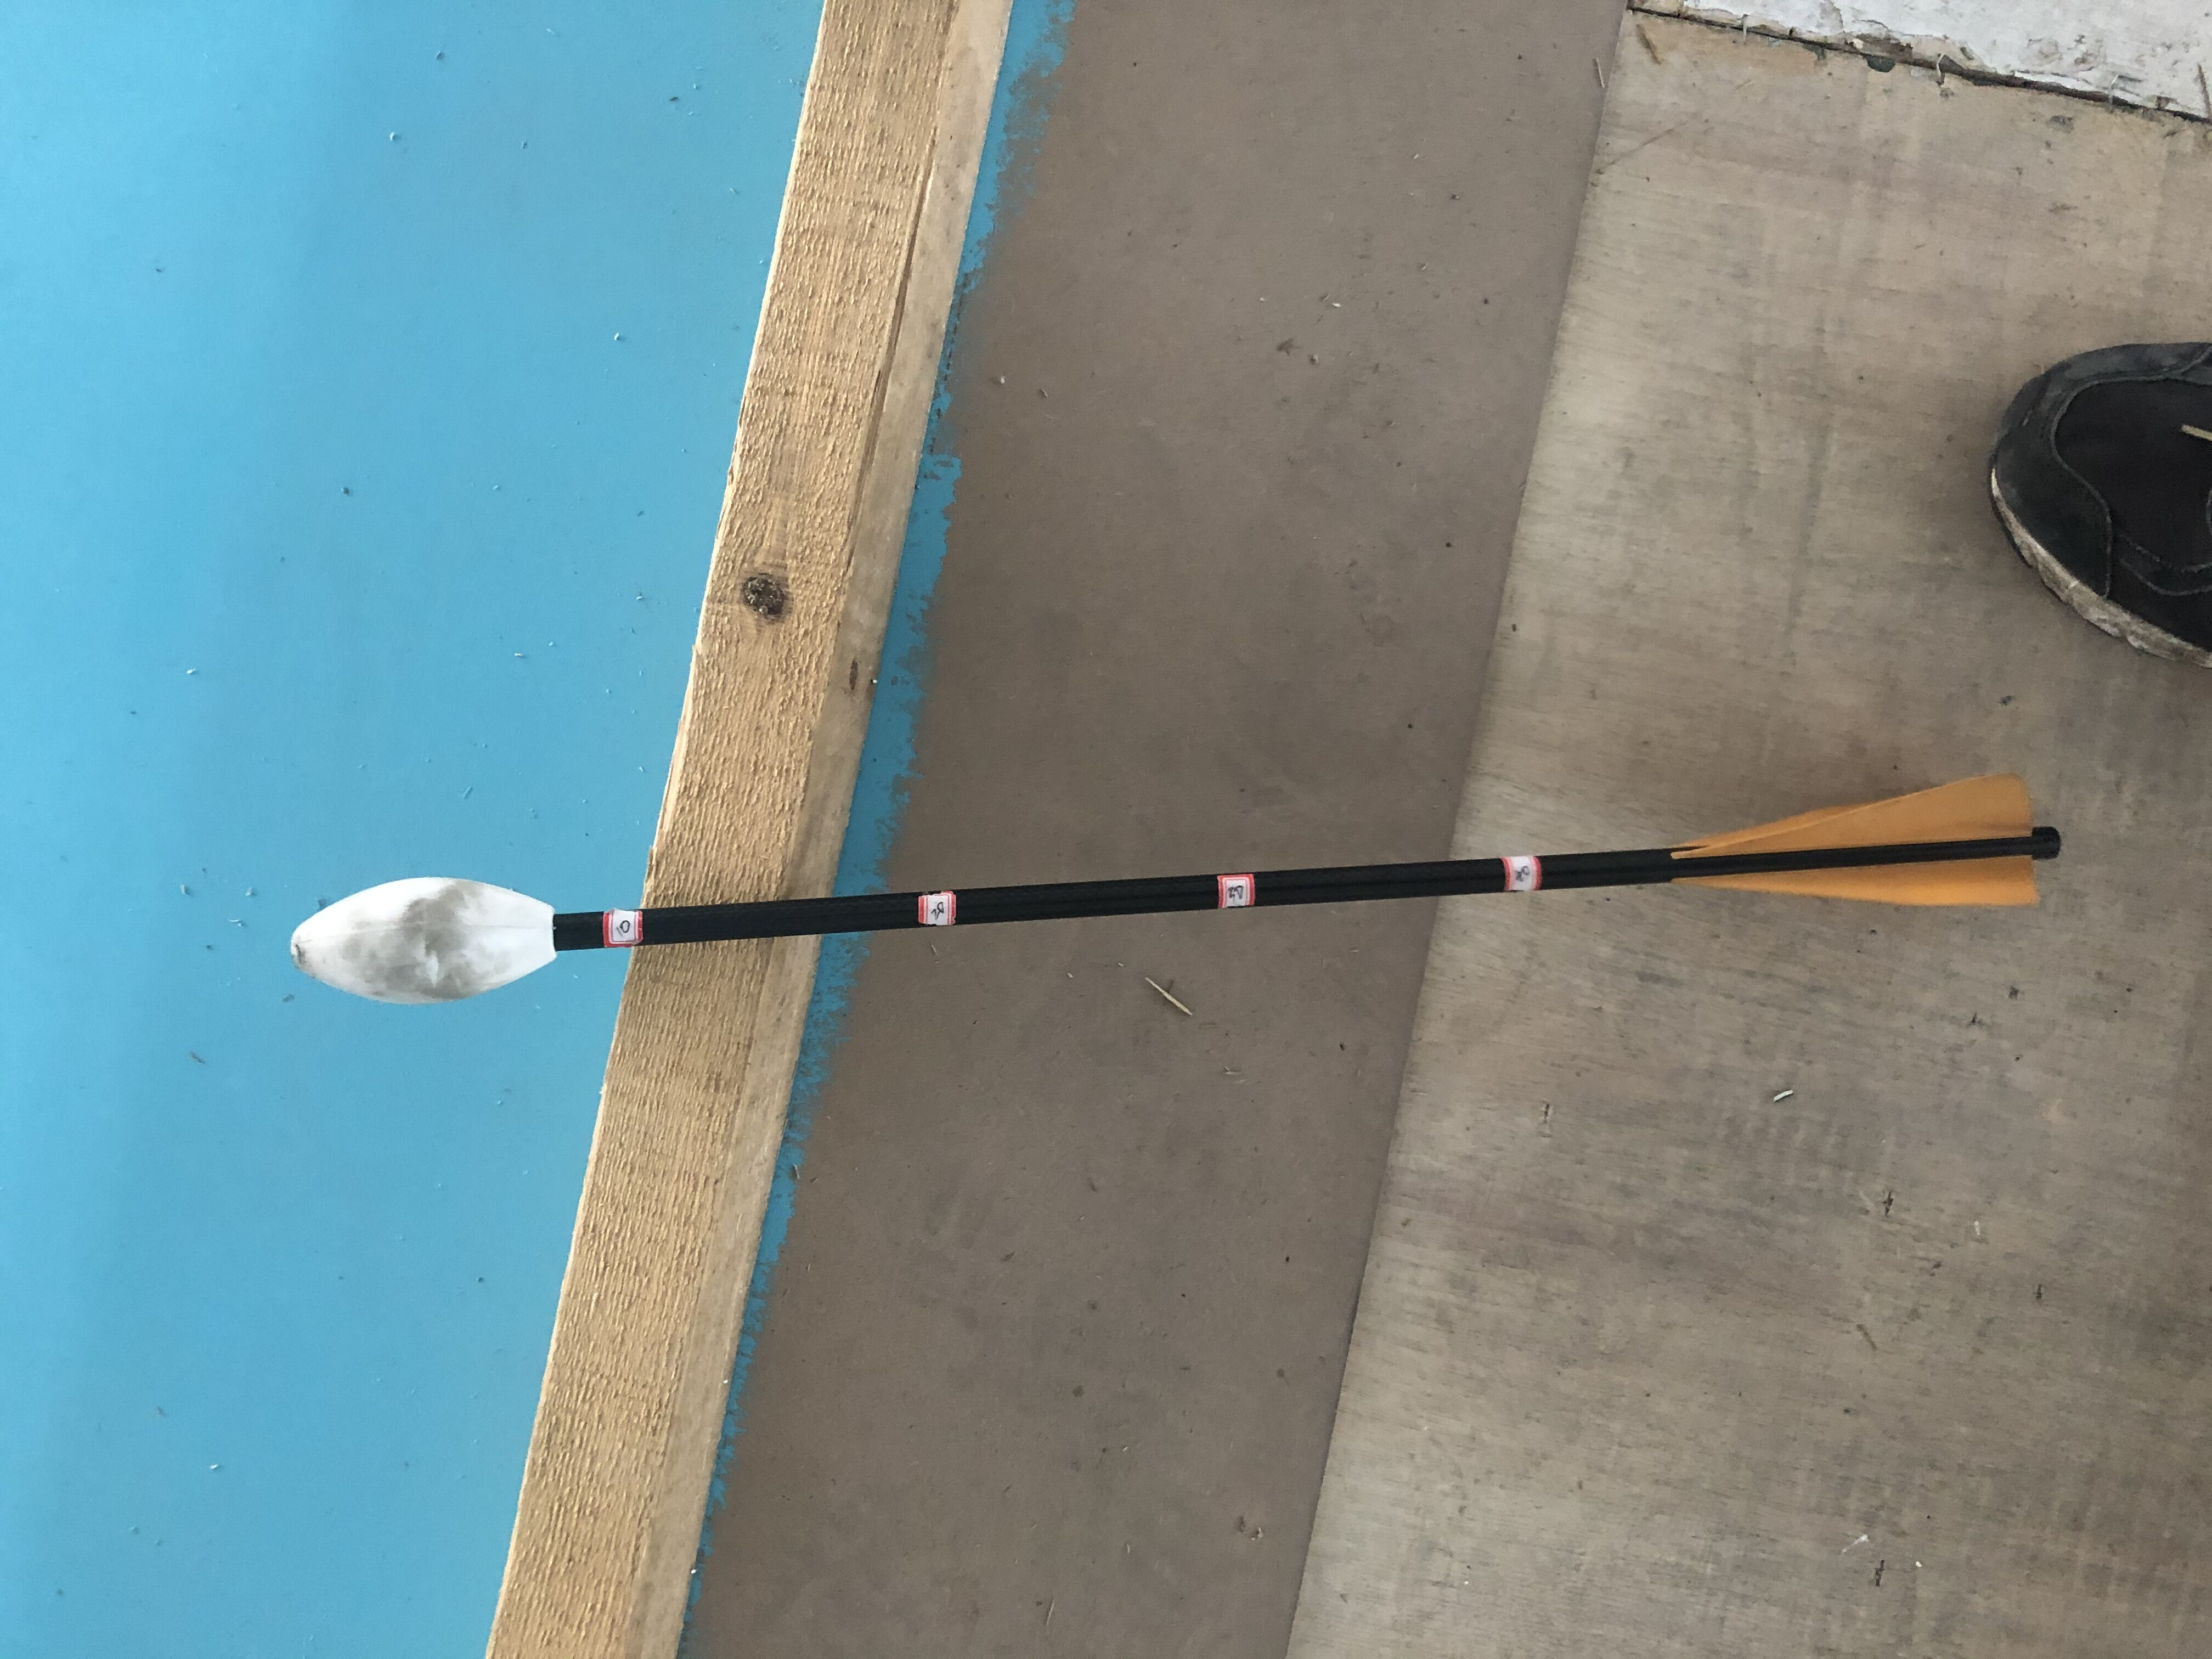arrow: (289, 769, 2064, 1007)
arrowFront: (287, 873, 561, 1009)
